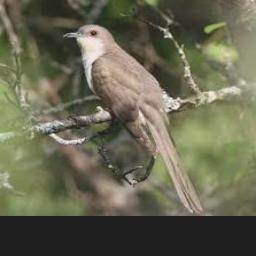Cuckoo: (63, 24, 201, 213)
